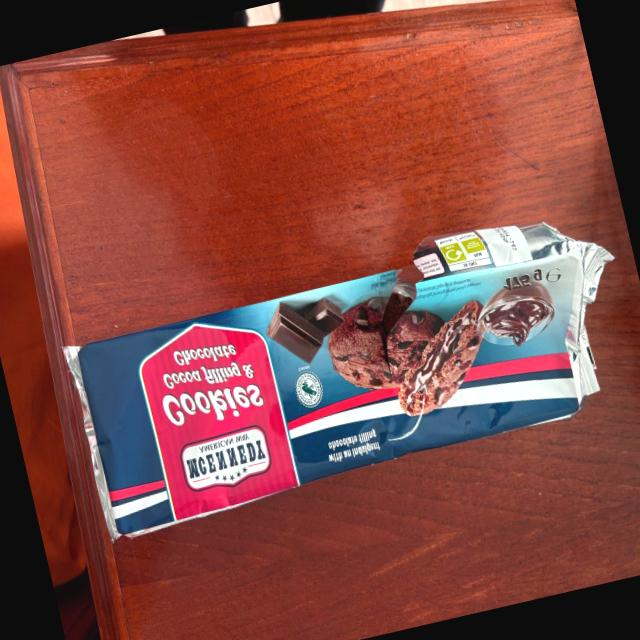damaged_package: (60, 196, 640, 542)
